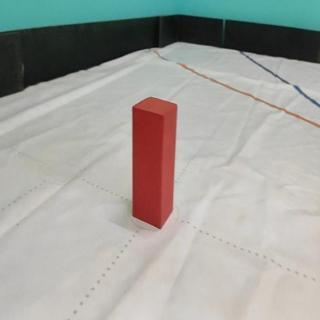redbox: (131, 94, 178, 229)
